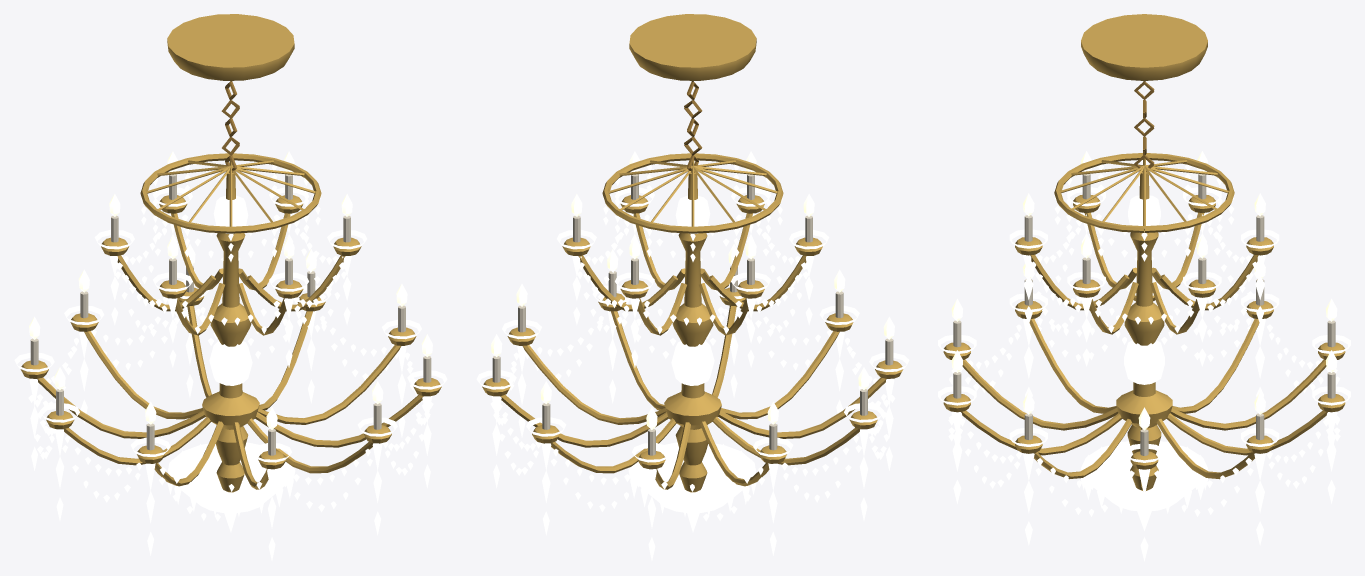
Rendered from chandelier.glb.
3 renders of one model, left to right at view 1: azimuth 30°, elevation 25°; view 2: azimuth 150°, elevation 25°; view 3: azimuth 270°, elevation 25°, orthographic.
Parts seen in each view (by area): view 1: chandelier; view 2: chandelier; view 3: chandelier.
Boxes of the visible parts, x1,y1,x2,y2 form: chandelier: [14, 14, 447, 560]; chandelier: [476, 14, 909, 560]; chandelier: [938, 14, 1350, 561].
Size of the model in its own units: 1.5 by 1.87 by 1.43.
